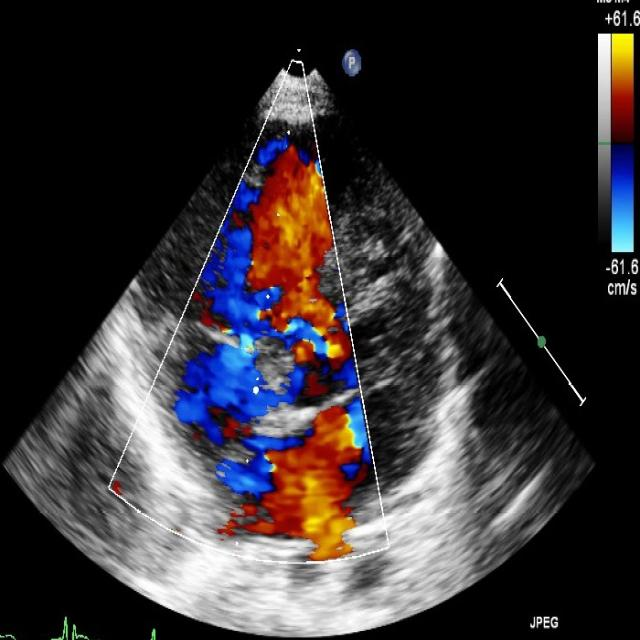VSDType2: (223, 277, 351, 367)
